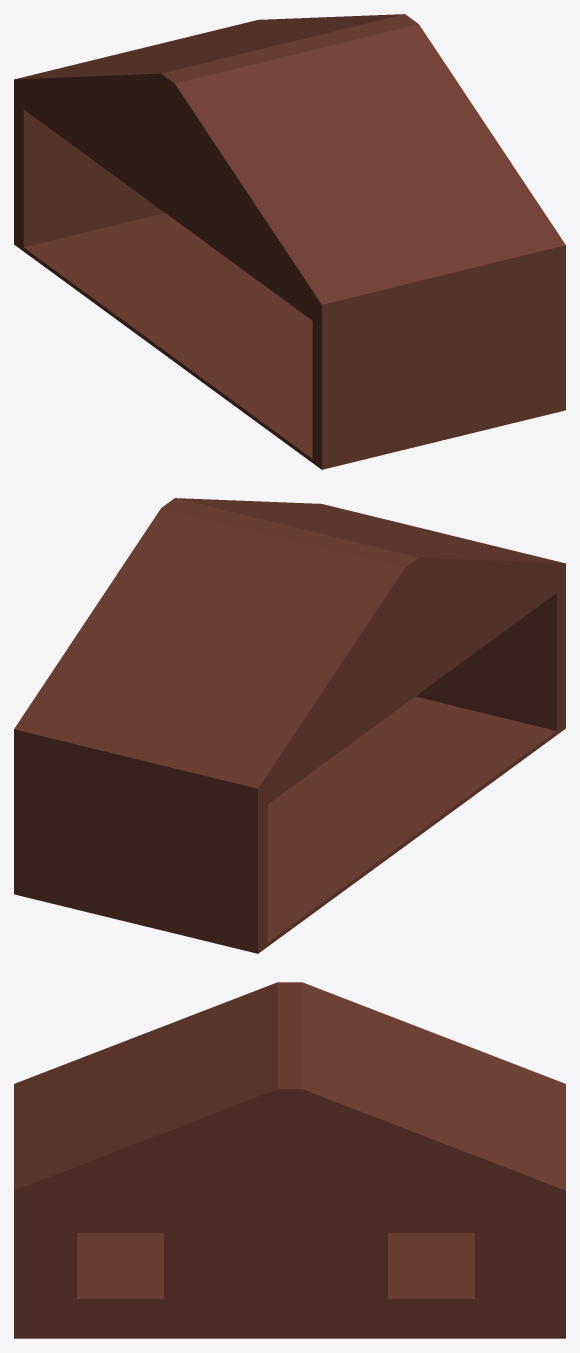
File: house.fbx
3 renders of one model, top to bottom at view 1: azimuth 30°, elevation 25°; view 2: azimuth 150°, elevation 25°; view 3: azimuth 270°, elevation 25°, orthographic. The views are drawn at different scales.
Visible parts, largest first — view 1: Cube; view 2: Cube; view 3: Cube.
Part boxes in pixels (left/top/right/bottom): Cube: left=14, top=14, right=565, bottom=469; Cube: left=14, top=498, right=565, bottom=953; Cube: left=14, top=982, right=565, bottom=1338.
Bounding box in the file's own units: 200 × 218 × 437.
